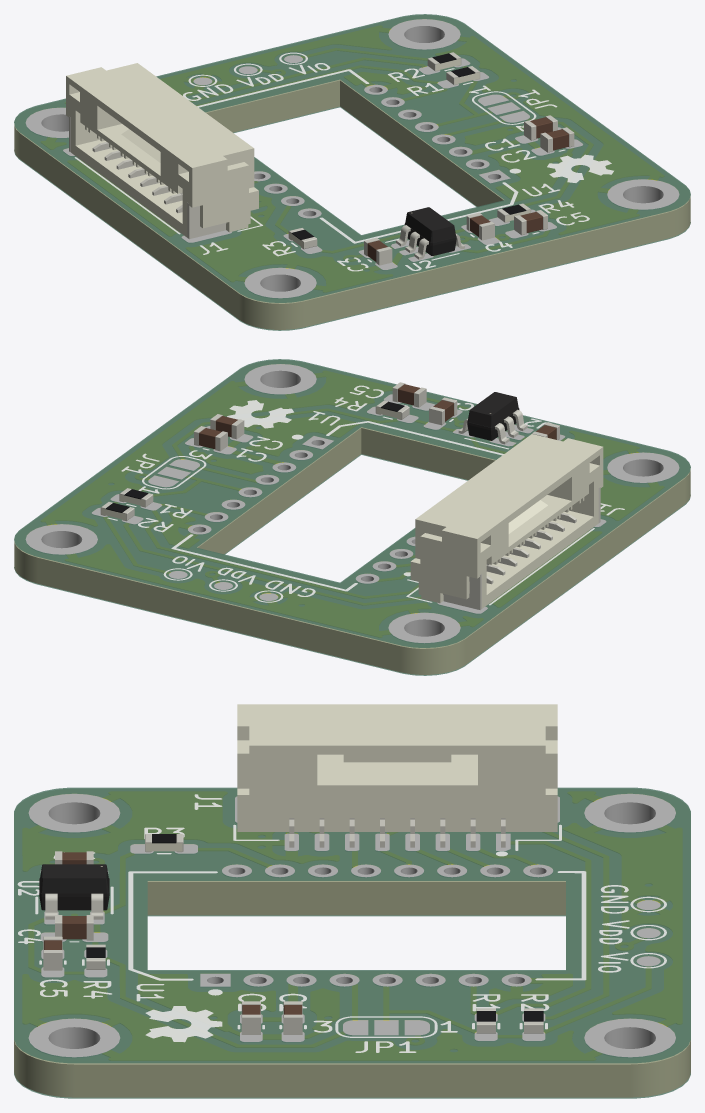
File: board.glb
3 renders of one model, top to bottom at view 1: azimuth 30°, elevation 25°; view 2: azimuth 150°, elevation 25°; view 3: azimuth 270°, elevation 25°, orthographic. The views are drawn at different scales.
Parts seen in each view (by area): view 1: board_soldermask (×2), board_PCB, JST_SM08B_GHS_TB, board_copper, board_pad, board_silkscreen, C_0603_1608Metric (×5), SOT-23-5; view 2: board_soldermask (×2), board_PCB, JST_SM08B_GHS_TB, board_copper, board_pad, board_silkscreen, C_0603_1608Metric (×4), SOT-23-5; view 3: board_soldermask (×2), board_PCB, JST_SM08B_GHS_TB, board_copper, board_pad, board_silkscreen, SOT-23-5, C_0603_1608Metric (×4), R_0603_1608Metric.
Part boxes in pixels (box(x1,y1,x2,y2)): board_soldermask (×2): box(14, 14, 690, 330); board_PCB: box(14, 15, 690, 329); JST_SM08B_GHS_TB: box(66, 63, 258, 239); board_copper: box(41, 26, 663, 291); board_pad: box(25, 19, 679, 298); board_silkscreen: box(74, 52, 613, 271); C_0603_1608Metric (×5): box(364, 115, 574, 265); SOT-23-5: box(396, 207, 464, 259); board_soldermask (×2): box(14, 359, 690, 675); board_PCB: box(14, 360, 690, 674); JST_SM08B_GHS_TB: box(410, 434, 603, 609); board_copper: box(41, 371, 663, 637); board_pad: box(25, 364, 679, 643); board_silkscreen: box(107, 385, 624, 605); C_0603_1608Metric (×4): box(194, 382, 457, 451); SOT-23-5: box(458, 392, 527, 444); board_soldermask (×2): box(14, 787, 690, 1098); board_PCB: box(14, 789, 690, 1097); JST_SM08B_GHS_TB: box(237, 704, 557, 847); board_copper: box(23, 792, 681, 1060); board_pad: box(28, 794, 675, 1057); board_silkscreen: box(17, 794, 666, 1052); SOT-23-5: box(39, 864, 109, 919); C_0603_1608Metric (×4): box(43, 915, 302, 1034); R_0603_1608Metric: box(145, 834, 183, 852).
Size of the model in its own units: 0.027 by 0.00591 by 0.028.
